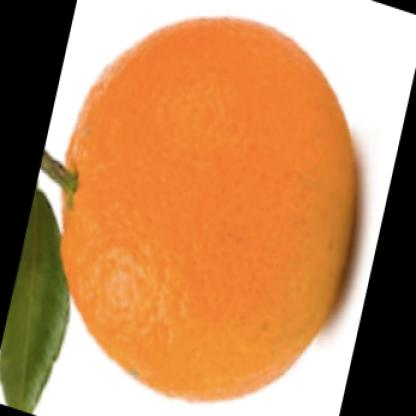fresh: (61, 18, 355, 396)
